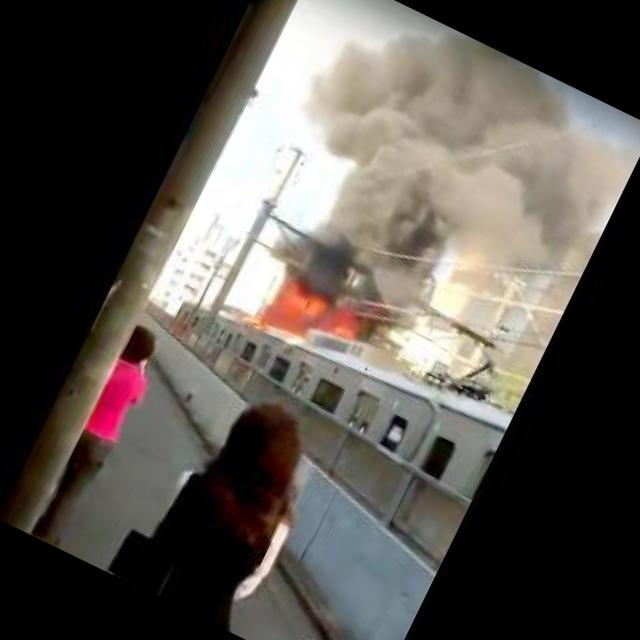fire: (248, 260, 384, 372)
smoke: (266, 0, 590, 357)
